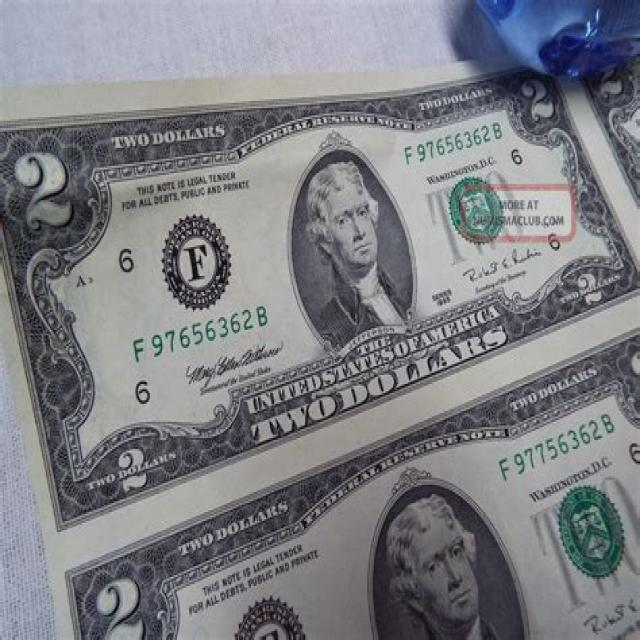Two: (0, 37, 640, 557)
